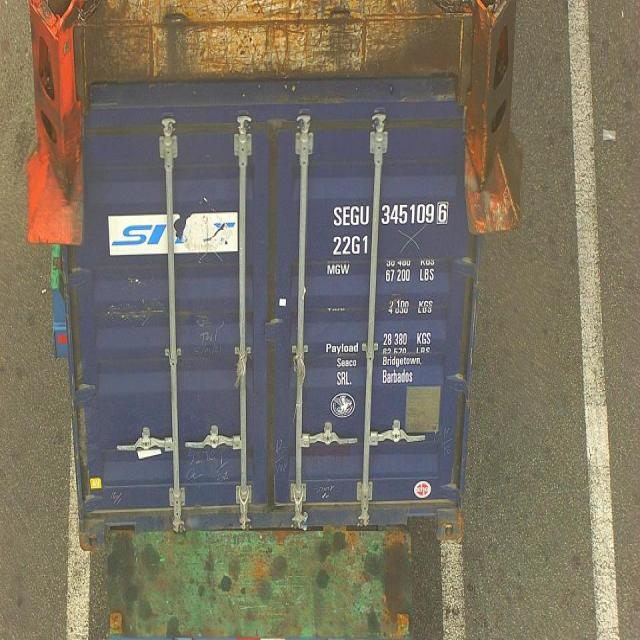ISO: (333, 235, 372, 258)
container_number: (332, 204, 447, 226)
